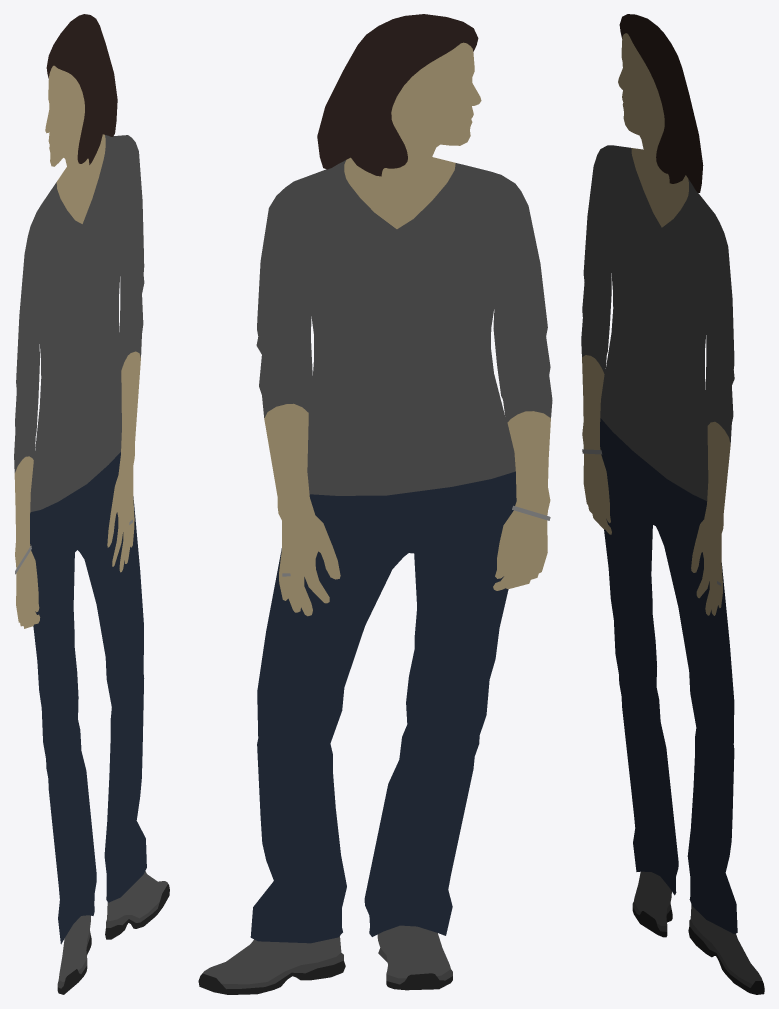
File: simple_woman_3d.fbx
The picture shows the model from 3 angles, left to right: view 1: azimuth 30°, elevation 25°; view 2: azimuth 150°, elevation 25°; view 3: azimuth 270°, elevation 25°; orthographic projection. The views are drawn at different scales.
Parts seen in each view (by area): view 1: Susan_001; view 2: Susan_001; view 3: Susan_001.
Part boxes in pixels (x1=…): Susan_001: x1=14, y1=14, x2=169, y2=994; Susan_001: x1=198, y1=14, x2=552, y2=994; Susan_001: x1=581, y1=14, x2=764, y2=994.
Size of the model in its own units: 18.26 by 66.6 by 12.17.
